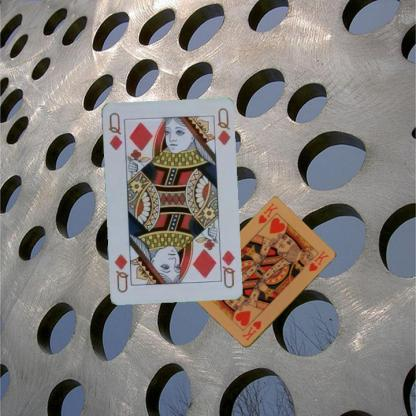Kh: (239, 318, 264, 343), (255, 200, 279, 225)
Qd: (216, 245, 236, 289), (105, 110, 124, 152)
